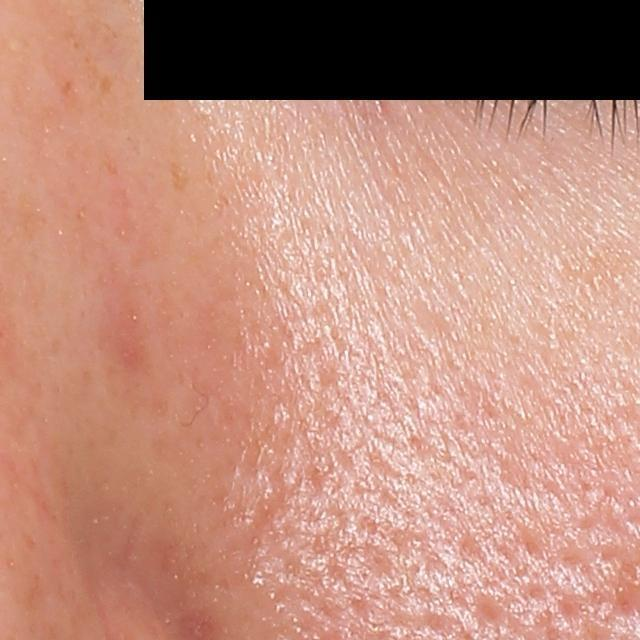melasma: (163, 157, 192, 195), (92, 74, 116, 97)
